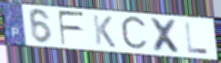6: (28, 8, 54, 45)
C: (119, 14, 150, 53)
F: (56, 9, 86, 46)
K: (91, 14, 118, 50)
L: (184, 21, 211, 56)
X: (148, 16, 184, 56)
